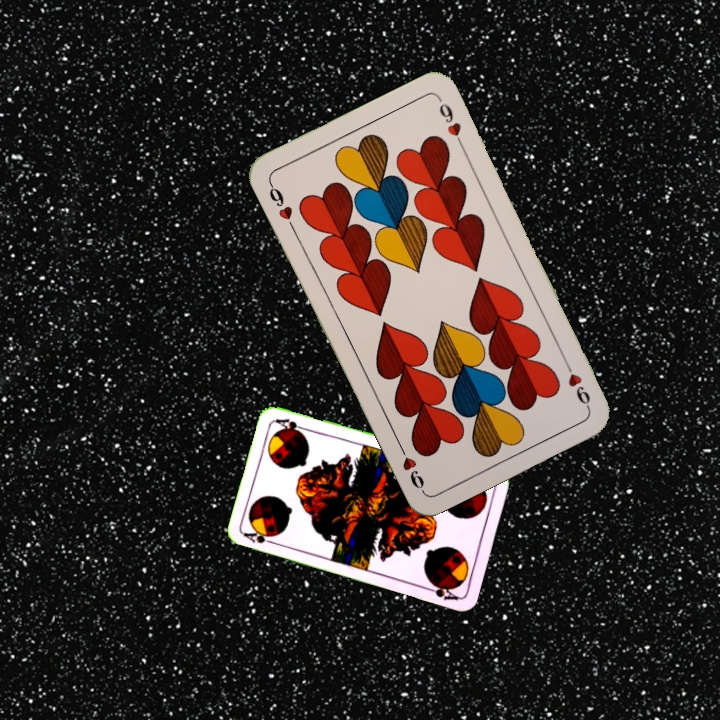H9: (559, 355, 593, 411), (264, 178, 298, 233)
SA: (240, 528, 280, 547)
